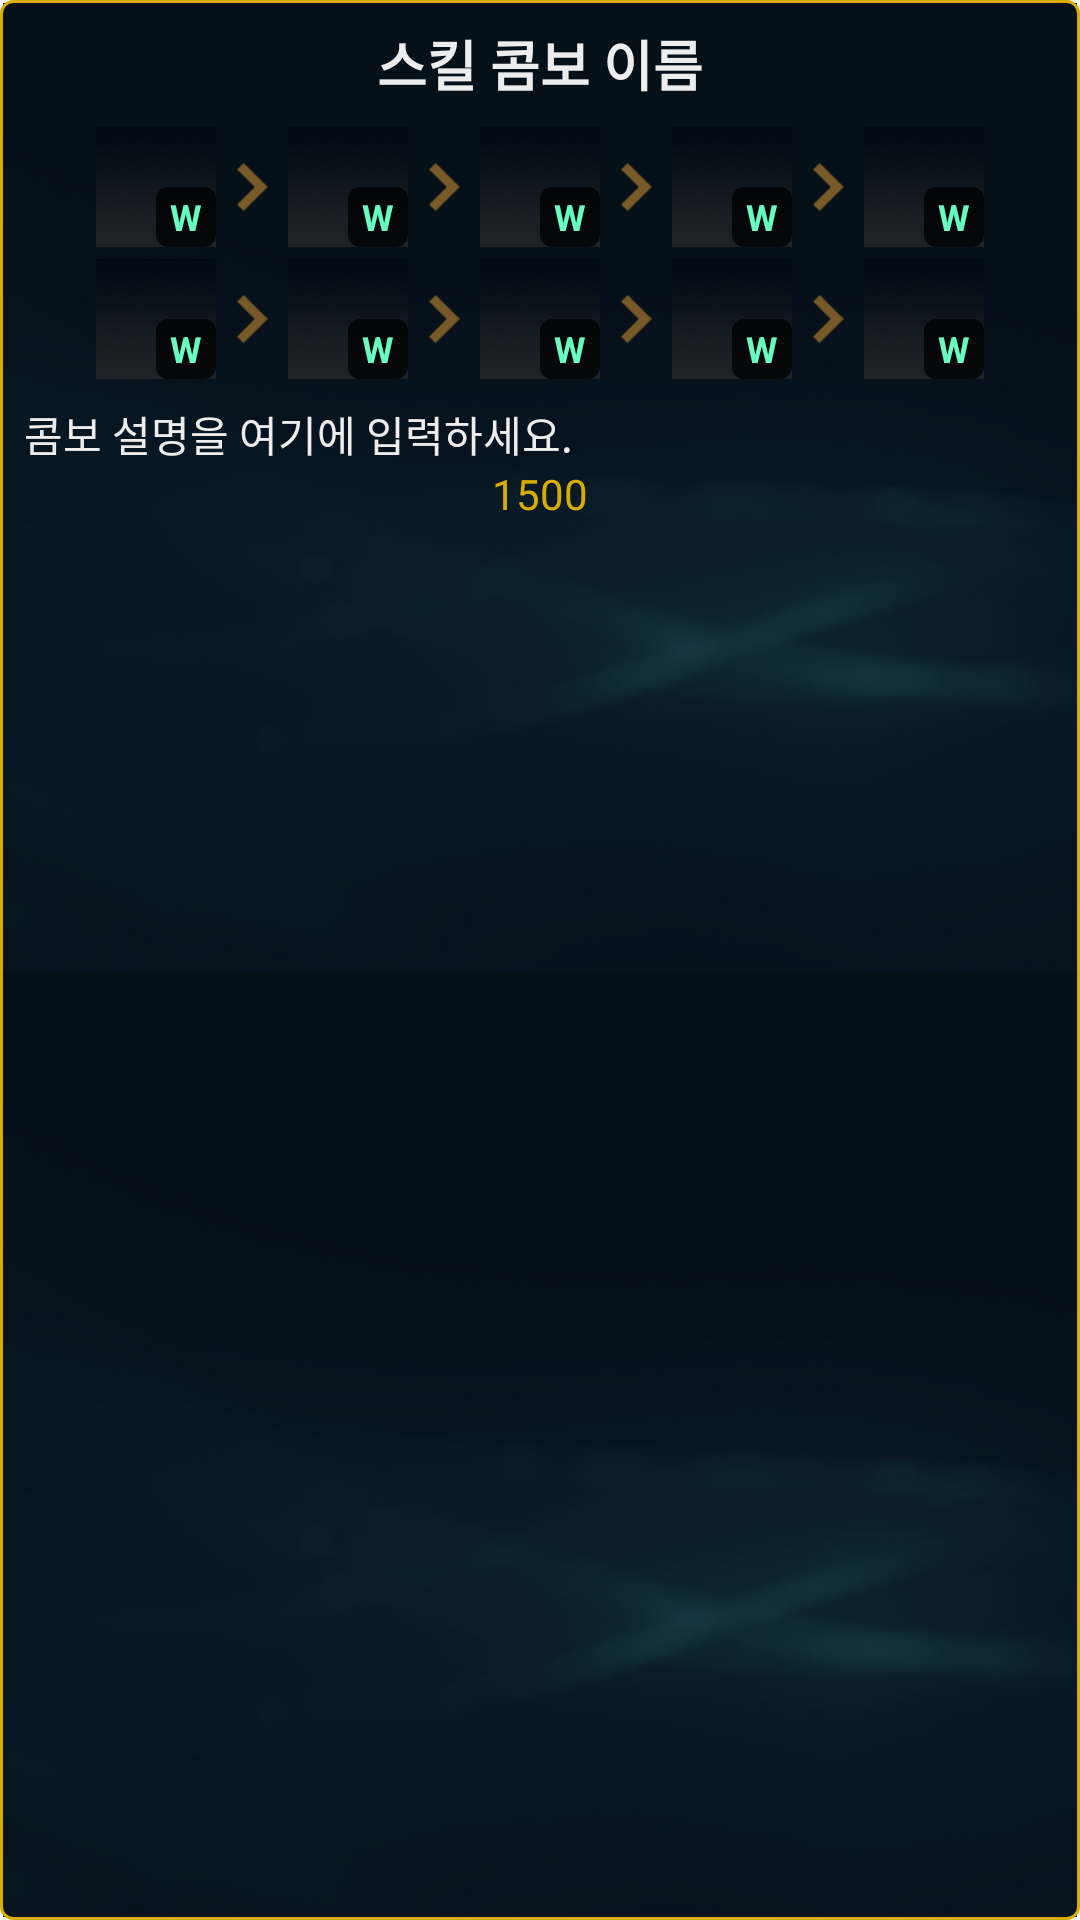

Named icons in this screenshot (1080 × 1920) and their bounding boxes, BBox(x1, y1, x2, y2):
arrow right: BBox(237, 163, 268, 211), BBox(429, 163, 460, 211), BBox(621, 163, 652, 211), BBox(813, 163, 844, 211), BBox(237, 295, 268, 343), BBox(429, 295, 460, 343), BBox(621, 295, 652, 343), BBox(813, 295, 844, 343)
